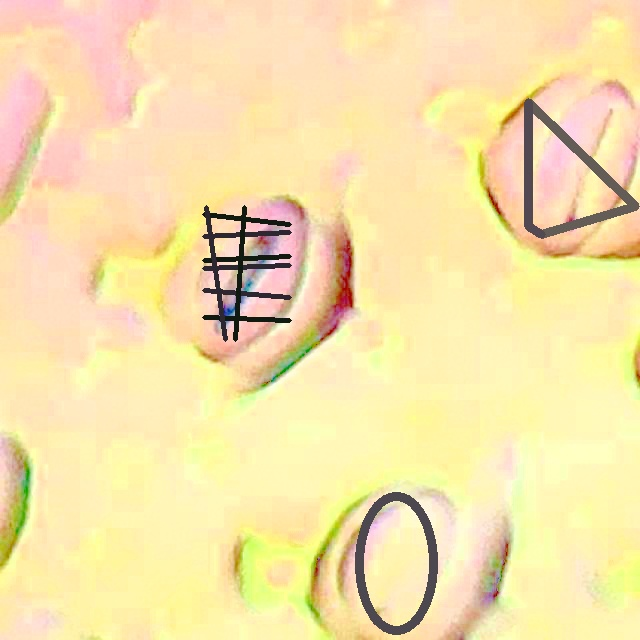close: (524, 98, 639, 238), (355, 491, 438, 635)
open: (202, 205, 291, 341)
